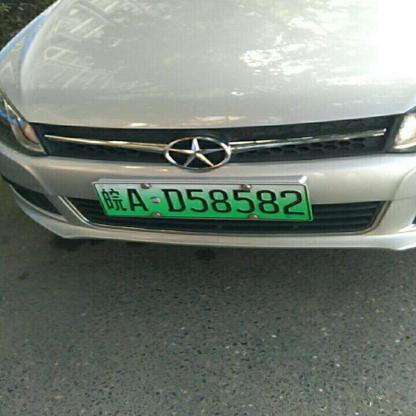lp: (95, 183, 311, 218)
